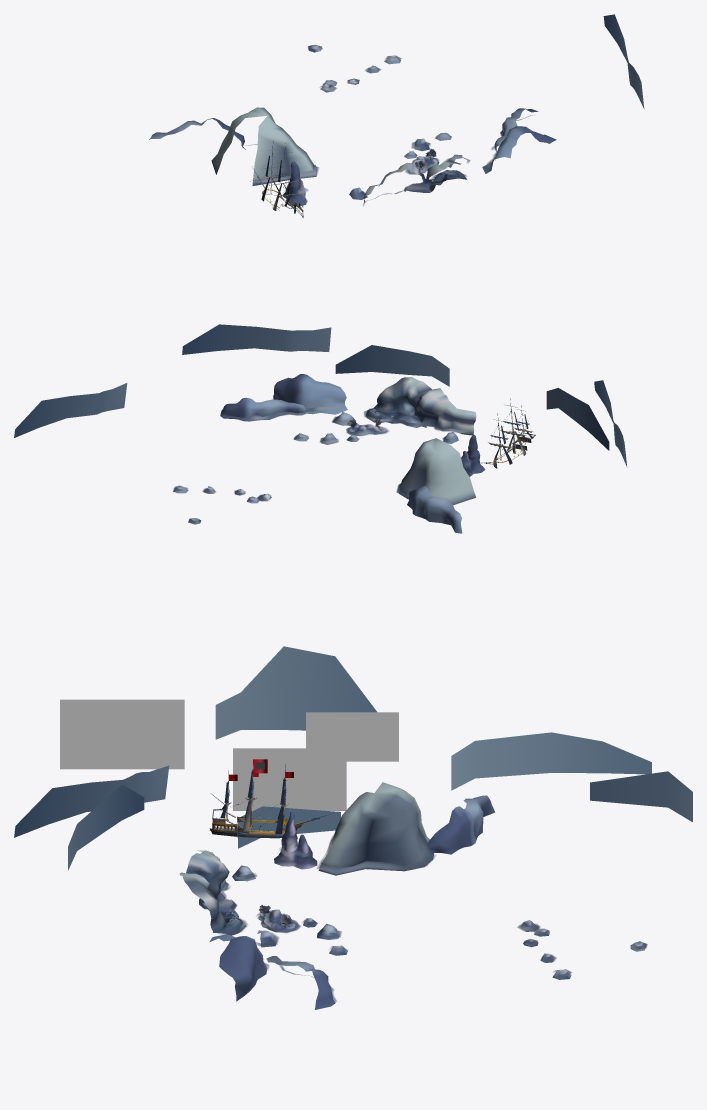
The model's file is 07End.gltf.
3 renders of one model, top to bottom at view 1: azimuth 30°, elevation 25°; view 2: azimuth 150°, elevation 25°; view 3: azimuth 270°, elevation 25°, orthographic. The views are drawn at different scales.
Parts seen in each view (by area): view 1: stg050_o18_Mesh_0001, stg050_shibuki_a_18_Mesh_0001, stg050_p18_Mesh_0005, stg050_o19_Mesh_0000; view 2: stg050_o18_Mesh_0001, stg050_p18_Mesh_0005, stg050_shibuki_a_18_Mesh_0001, stg050_shibuki_a_18_Mesh_0002, stg050_o19_Mesh_0000; view 3: stg050_p18_Mesh_0005, stg050_p19_Mesh_0004, stg050_o18_Mesh_0001, stg050_shibuki_a_18_Mesh_0001, stg050_shibuki_a_18_Mesh_0002.
Part boxes in pixels (<box>): stg050_o18_Mesh_0001: <box>149,45,556,206</box>; stg050_shibuki_a_18_Mesh_0001: <box>248,44,532,203</box>; stg050_p18_Mesh_0005: <box>603,14,644,108</box>; stg050_o19_Mesh_0000: <box>250,141,303,217</box>; stg050_o18_Mesh_0001: <box>173,374,485,533</box>; stg050_p18_Mesh_0005: <box>14,324,627,467</box>; stg050_shibuki_a_18_Mesh_0001: <box>173,404,467,523</box>; stg050_shibuki_a_18_Mesh_0002: <box>206,406,466,493</box>; stg050_o19_Mesh_0000: <box>481,398,535,466</box>; stg050_p18_Mesh_0005: <box>14,646,692,870</box>; stg050_p19_Mesh_0004: <box>60,699,398,810</box>; stg050_o18_Mesh_0001: <box>179,782,645,1009</box>; stg050_shibuki_a_18_Mesh_0001: <box>220,835,647,1002</box>; stg050_shibuki_a_18_Mesh_0002: <box>221,835,552,977</box>.
Size of the model in its own units: 1702 by 244 by 1331.
